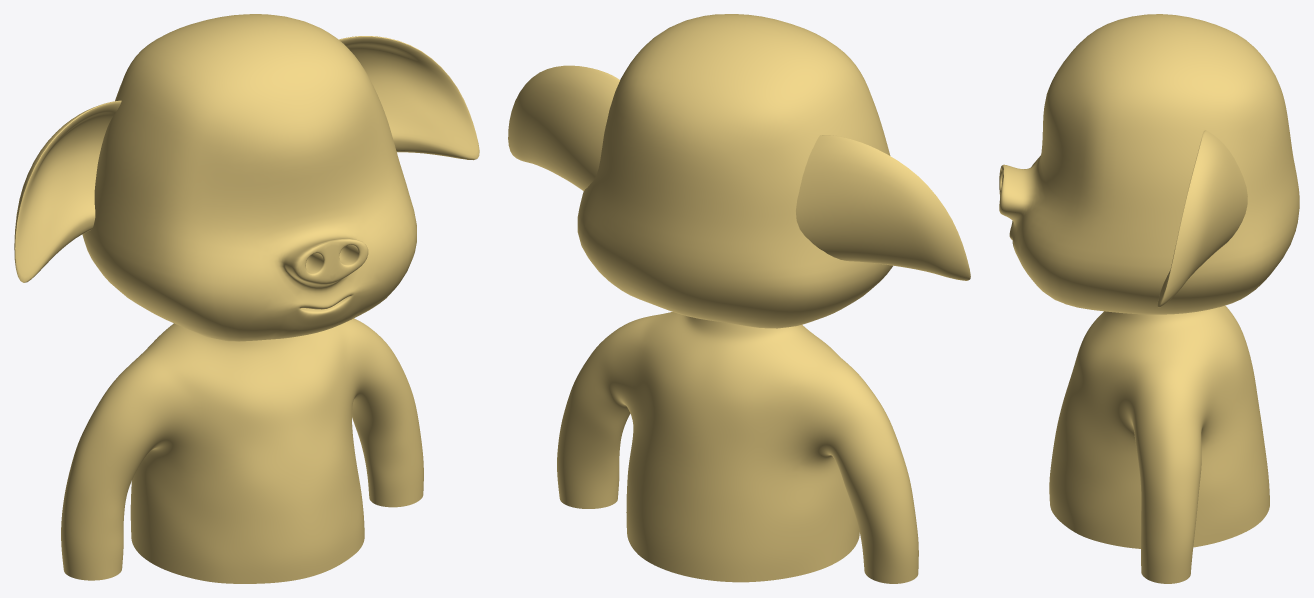
Rendered from GoldPig.gltf.
3 renders of one model, left to right at view 1: azimuth 30°, elevation 25°; view 2: azimuth 150°, elevation 25°; view 3: azimuth 270°, elevation 25°, orthographic. The views are drawn at different scales.
Parts seen in each view (by area): view 1: face1-PBR (×3); view 2: face1-PBR (×2); view 3: face1-PBR (×2).
Part boxes in pixels (left/top/right/bottom): face1-PBR (×3): left=14, top=14, right=479, bottom=583; face1-PBR (×2): left=508, top=14, right=970, bottom=583; face1-PBR (×2): left=999, top=14, right=1299, bottom=583.
Size of the model in its own units: 13.35 by 13.9 by 8.03.
